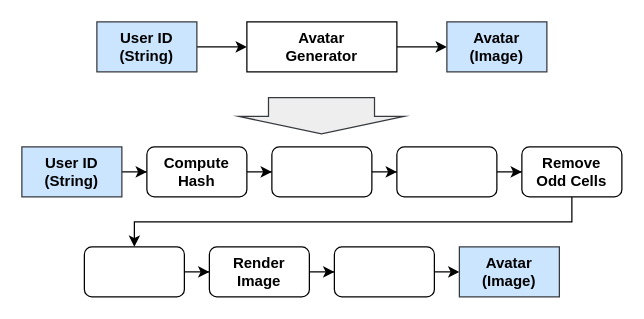
This 644x319 diagram has some shape labels left out. Each missing label, with the centre of its shape:
Create Grid: point (446, 171)
Generate Pixel Map: point (133, 271)
Select Colour: point (321, 171)
Store Image: point (383, 271)
